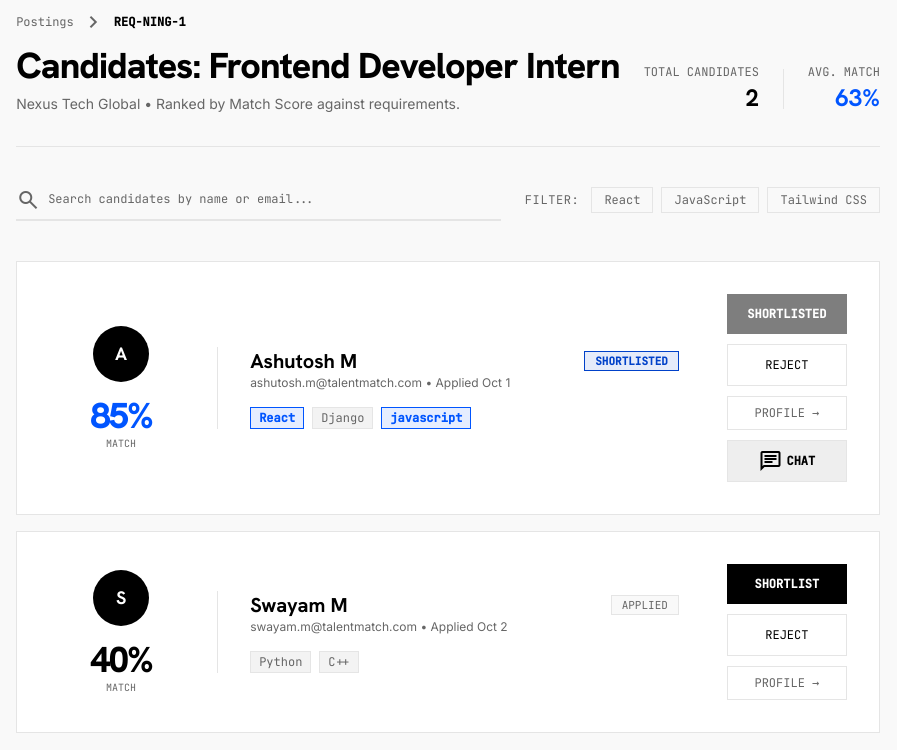
Scenario: OpeningCandidates skill chips › renders candidate own skills with matched required skills highlighted and keeps skill filter working
This screenshot has width=897, height=750.
Expected: the text "Ashutosh M" is shown, [250,348,357,374]
Existing skill filter still filters candidates by required skill
What coordinates should you click on to do the following:
click the button "React"
I would click on:
 (622, 200)
Its box is [591,187,653,213].
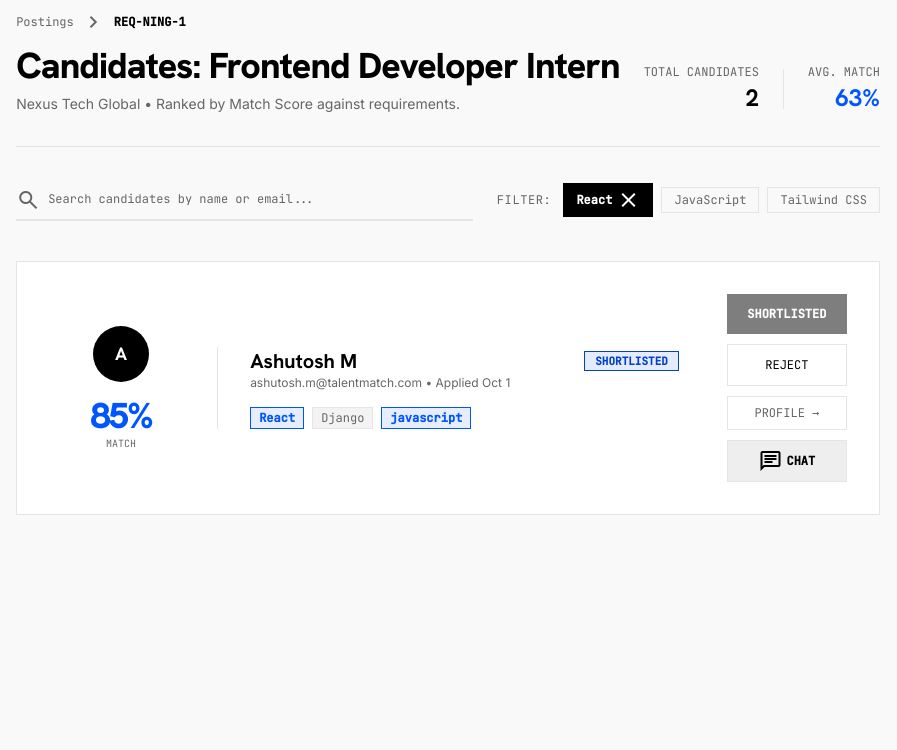
Expected: the link "Ashutosh M" is shown, [250,348,357,374]
Result: the link "Swayam M" is gone
